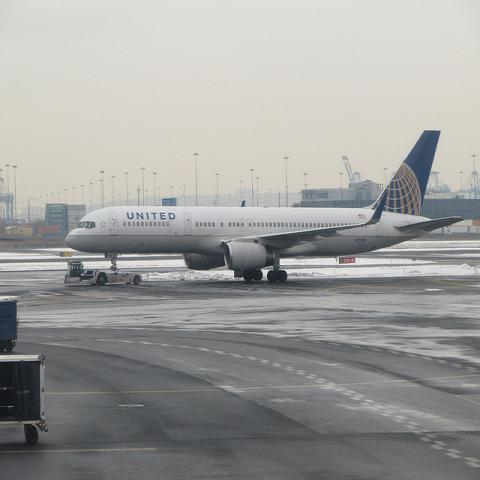truck: (64, 260, 142, 286), (0, 298, 20, 352)
